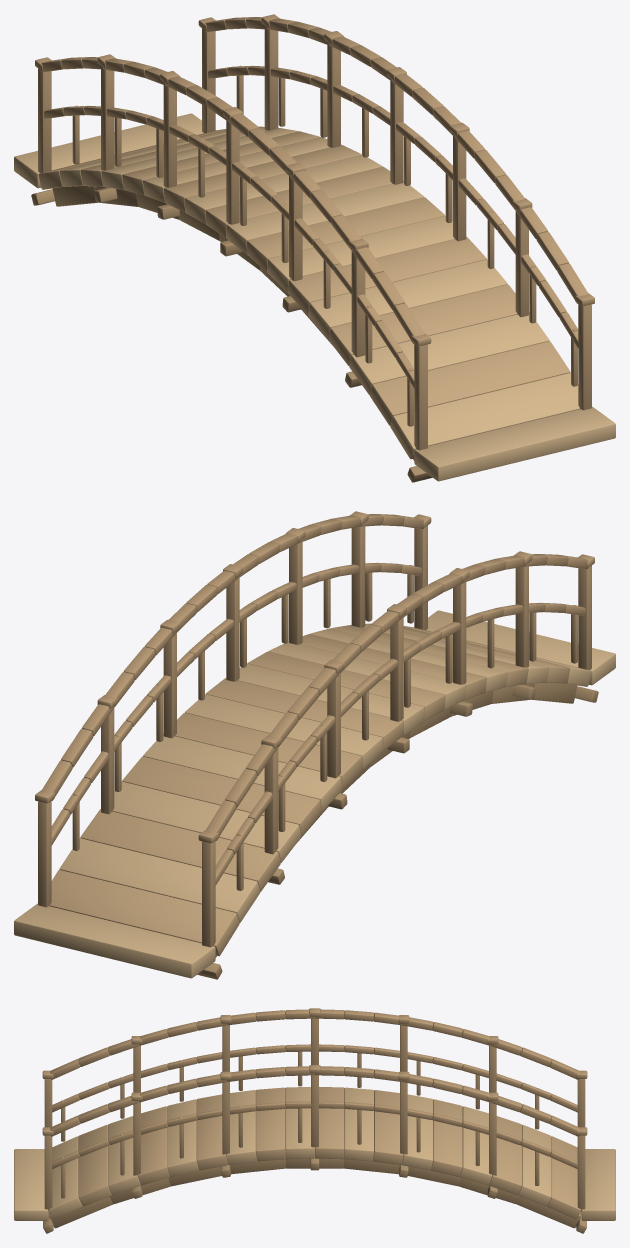
Rendered from th16_teichbruecke.glb.
3 views of the same model, one above another, from view 1: azimuth 30°, elevation 25°; view 2: azimuth 150°, elevation 25°; view 3: azimuth 270°, elevation 25° (orthographic). The views are drawn at different scales.
Visible parts, largest first — view 1: Cube.018, Cube, Cube.001, Cube.002, Cube.004, Cube.003, Cube.005, Cube.006, Cube.007, Cube.008, Cube.019, Cube.009 (+23 smaller); view 2: Cube.019, Cube.017, Cube.016, Cube.015, Cube.014, Cube.013, Cube.012, Cube.011, Cube.010, Cube.009, Cube.018, Cube.008 (+23 smaller); view 3: Cube.018, Cube.019, Cube.001, Cube.013, Cube.007, Cube.010, Cube.016, Cube.004, Cube.017, Cube.003, Cube.005, Cube.015 (+31 smaller).
Part boxes in pixels (left/top/right/bottom): Cube.018: left=414, top=406, right=615, bottom=481; Cube: left=390, top=373, right=579, bottom=459; Cube.001: left=369, top=341, right=570, bottom=425; Cube.002: left=349, top=312, right=549, bottom=394; Cube.004: left=308, top=259, right=507, bottom=339; Cube.003: left=328, top=284, right=517, bottom=365; Cube.005: left=287, top=236, right=486, bottom=314; Cube.006: left=267, top=216, right=454, bottom=292; Cube.007: left=246, top=197, right=444, bottom=271; Cube.008: left=226, top=181, right=423, bottom=253; Cube.019: left=14, top=113, right=203, bottom=188; Cube.009: left=205, top=166, right=391, bottom=237; Cube.019: left=14, top=903, right=215, bottom=978; Cube.017: left=50, top=870, right=239, bottom=956; Cube.016: left=59, top=838, right=260, bottom=922; Cube.015: left=80, top=809, right=280, bottom=891; Cube.014: left=112, top=781, right=301, bottom=862; Cube.013: left=122, top=756, right=321, bottom=836; Cube.012: left=143, top=734, right=342, bottom=811; Cube.011: left=175, top=713, right=362, bottom=789; Cube.010: left=185, top=694, right=383, bottom=768; Cube.009: left=206, top=678, right=403, bottom=750; Cube.018: left=426, top=610, right=615, bottom=685; Cube.008: left=238, top=663, right=424, bottom=734; Cube.018: left=14, top=1149, right=48, bottom=1220; Cube.019: left=581, top=1149, right=615, bottom=1220; Cube.001: left=78, top=1125, right=111, bottom=1206; Cube.013: left=431, top=1099, right=462, bottom=1176; Cube.007: left=256, top=1087, right=285, bottom=1161; Cube.010: left=344, top=1087, right=373, bottom=1161; Cube.016: left=518, top=1125, right=551, bottom=1206; Cube.004: left=167, top=1099, right=198, bottom=1176; Cube.017: left=547, top=1136, right=580, bottom=1219; Cube.003: left=137, top=1106, right=169, bottom=1185; Cube.005: left=196, top=1094, right=227, bottom=1170; Cube.015: left=489, top=1116, right=521, bottom=1194.
Size of the model in its own units: 1.76 by 2.11 by 7.
